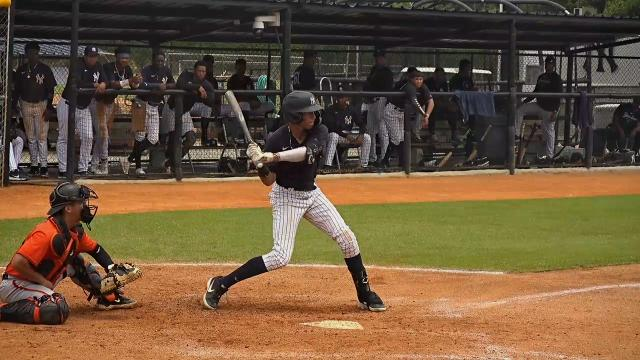bat: (225, 86, 253, 142)
